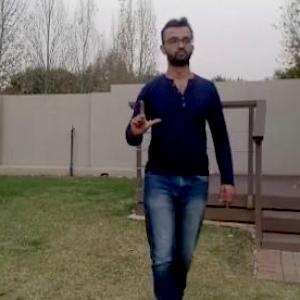land_hand: (126, 95, 164, 138)
